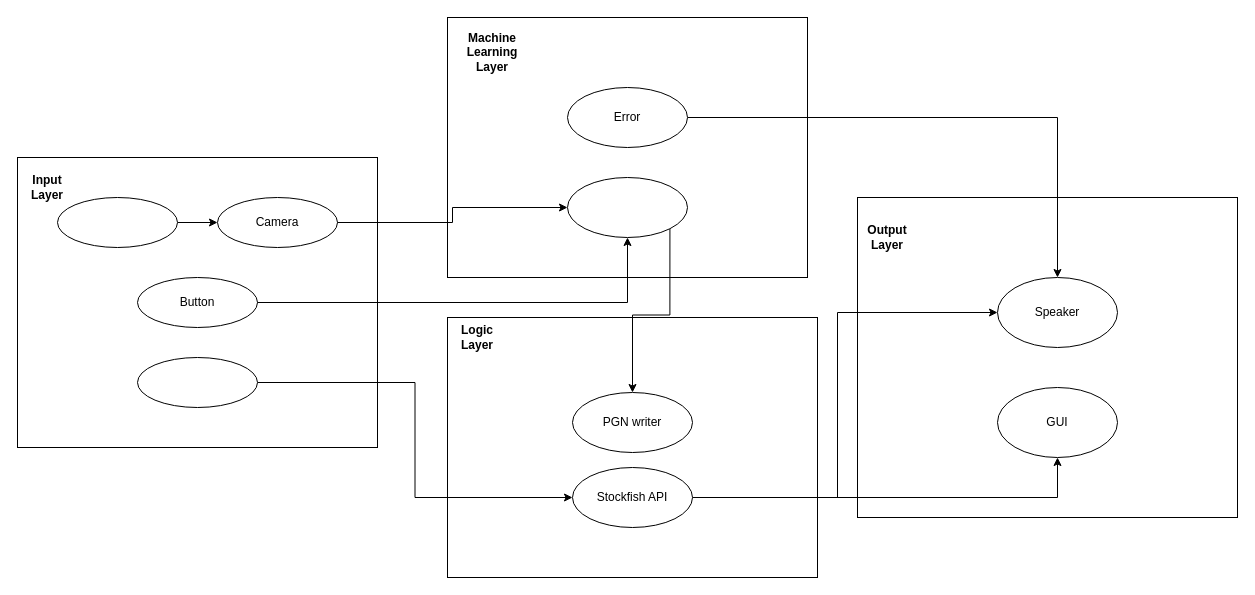
Image size: 1255x595. Some labels were removed from this diagram. Here are the shapes that lost their labels. From the top down, the box of each, then its label:
(56, 196, 178, 248): Board
(566, 176, 688, 238): Object Detection
(136, 356, 258, 408): Switch
